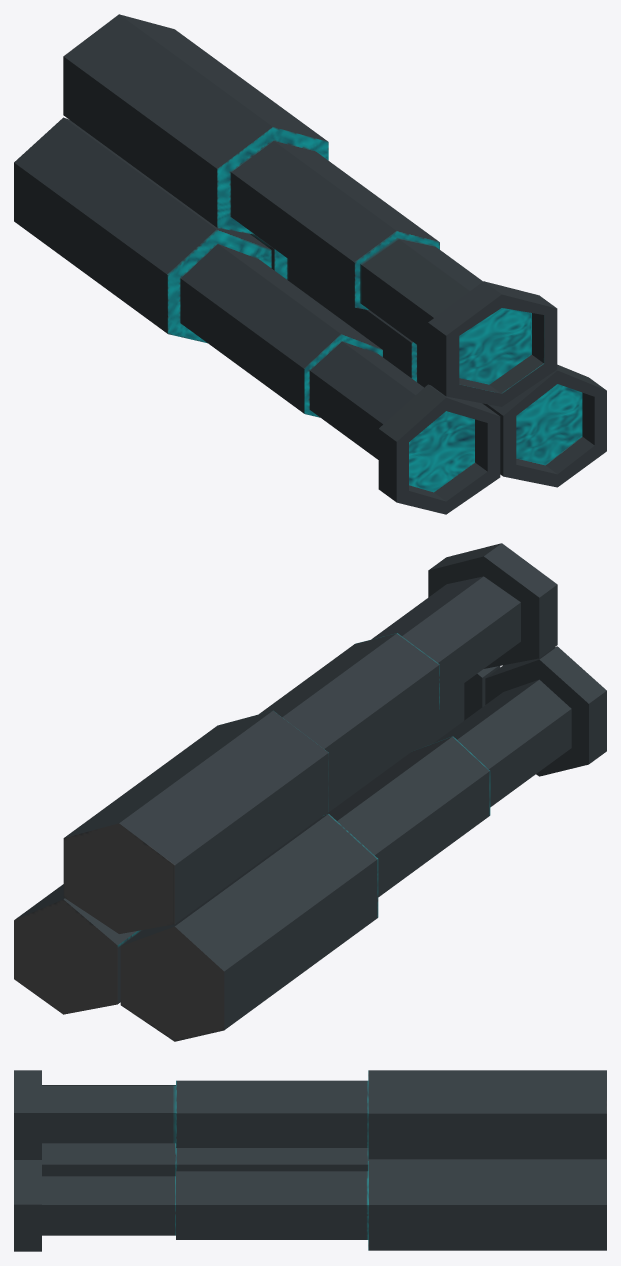
The model's file is cannon.obj.
3 views of the same model, one above another, from view 1: azimuth 30°, elevation 25°; view 2: azimuth 150°, elevation 25°; view 3: azimuth 270°, elevation 25° (orthographic). The views are drawn at different scales.
Parts seen in each view (by area): view 1: MCCanon_Cube.006; view 2: MCCanon_Cube.006; view 3: MCCanon_Cube.006.
Boxes of the visible parts, x1,y1,x2,y2 form: MCCanon_Cube.006: (14,14,606,514); MCCanon_Cube.006: (14,543,606,1041); MCCanon_Cube.006: (14,1070,606,1251).
Size of the model in its own units: 0.9842 by 0.9246 by 3.1.
1 material, 1 textured.
